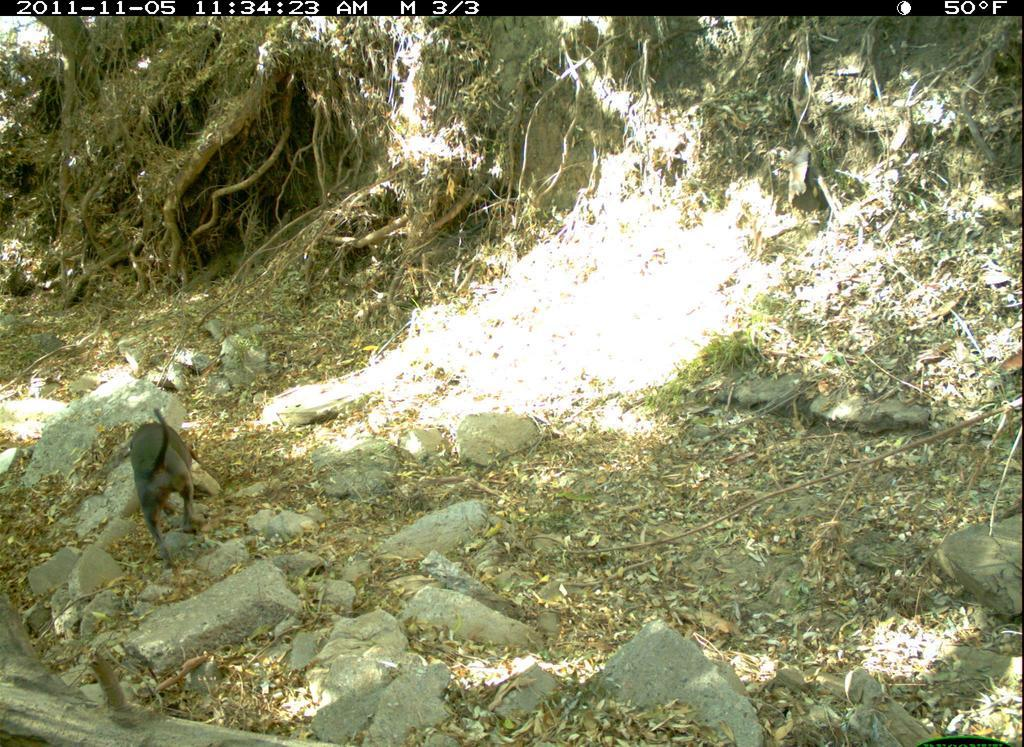dog: (125, 401, 214, 568)
